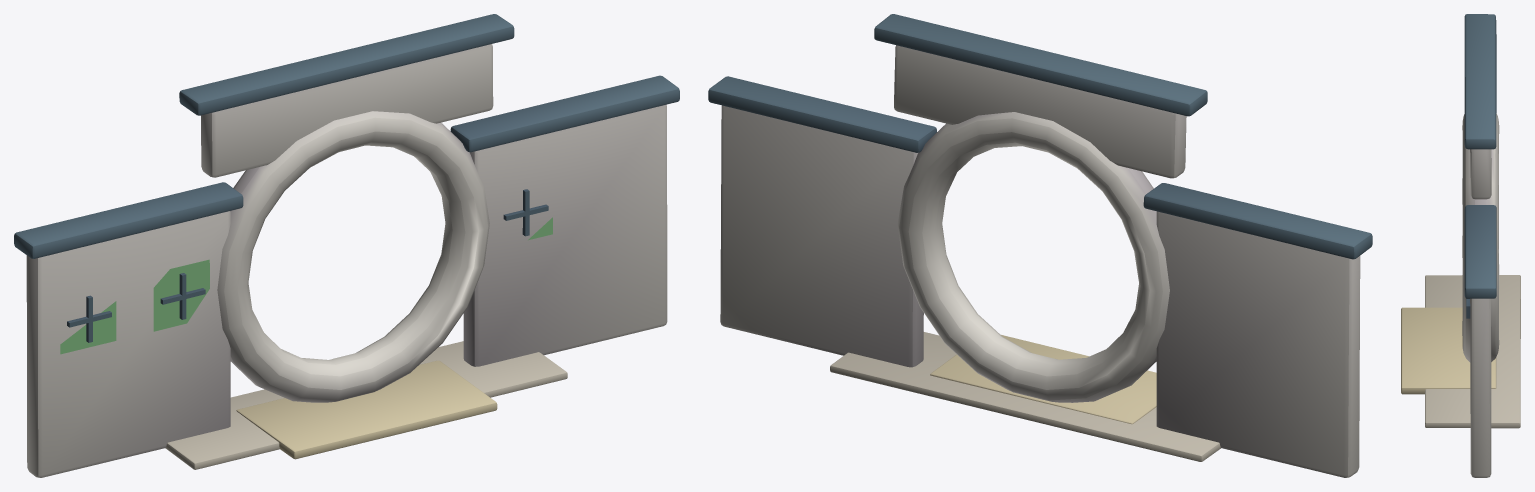
3 views of the same model, side by side, from view 1: azimuth 30°, elevation 25°; view 2: azimuth 150°, elevation 25°; view 3: azimuth 270°, elevation 25° (orthographic). The views are drawn at different scales.
Parts seen in each view (by area): view 1: gate_debb91f7; view 2: gate_debb91f7; view 3: gate_debb91f7.
Part boxes in pixels (box(x1,y1,x2,y2)): gate_debb91f7: box(14, 14, 679, 477); gate_debb91f7: box(708, 14, 1372, 477); gate_debb91f7: box(1401, 14, 1520, 477).
Size of the model in its own units: 7.64 by 3.86 by 1.5.
